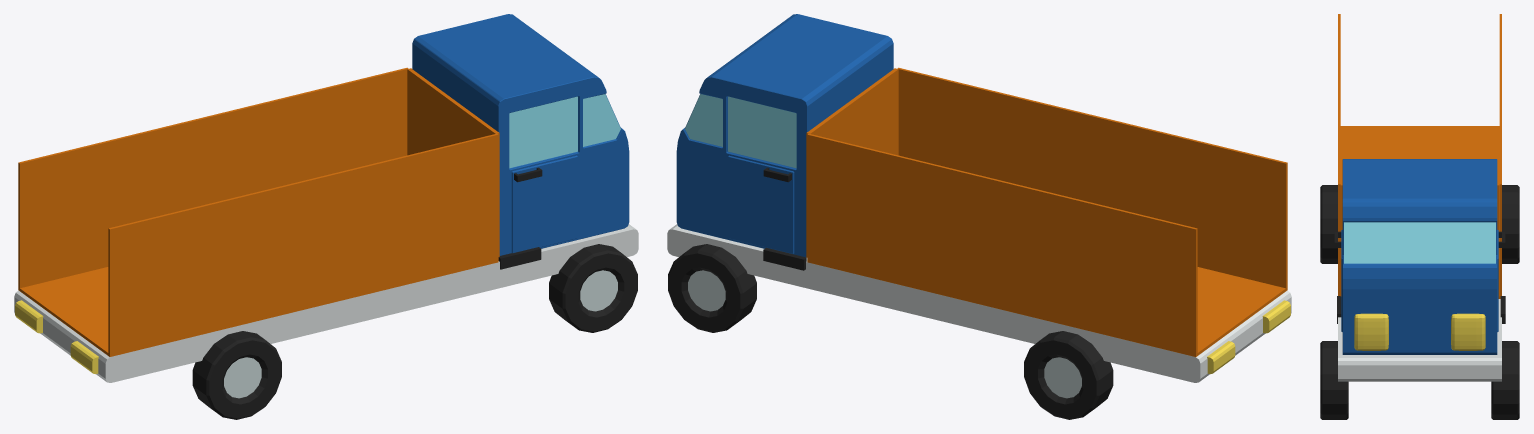
File: Truck.fbx
3 renders of one model, left to right at view 1: azimuth 30°, elevation 25°; view 2: azimuth 150°, elevation 25°; view 3: azimuth 270°, elevation 25°, orthographic. The views are drawn at different scales.
Parts seen in each view (by area): view 1: truckBoxRight, Truck, truckBoxLeft, truckBackSide, truckBoxFront, truckBoxBottom, rightLight, leftLight; view 2: truckBoxLeft, Truck, truckBoxRight, truckBackSide, truckBoxBottom, truckBoxFront, leftLight, rightLight; view 3: Truck, truckBoxBottom, truckBoxLeft, truckBoxRight, truckBoxFront.
Boxes of the visible parts, box(x1,y1,x2,y2) form: truckBoxRight: box(108, 133, 498, 356); Truck: box(192, 14, 638, 419); truckBoxLeft: box(18, 67, 408, 288); truckBackSide: box(14, 261, 500, 382); truckBoxFront: box(407, 68, 499, 256); truckBoxBottom: box(18, 267, 109, 356); rightLight: box(70, 341, 98, 374); leftLight: box(15, 300, 43, 333); truckBoxLeft: box(807, 133, 1197, 353); Truck: box(667, 14, 1113, 419); truckBoxRight: box(897, 67, 1287, 288); truckBackSide: box(805, 260, 1291, 382); truckBoxBottom: box(807, 259, 1287, 356); truckBoxFront: box(806, 68, 898, 257); leftLight: box(1207, 341, 1235, 374); rightLight: box(1262, 300, 1290, 333); Truck: box(1320, 159, 1519, 419); truckBoxBottom: box(1340, 126, 1499, 298); truckBoxLeft: box(1499, 14, 1501, 298); truckBoxRight: box(1338, 14, 1340, 295); truckBoxFront: box(1340, 183, 1499, 296).
Size of the model in its own units: 838 by 363 by 299.
